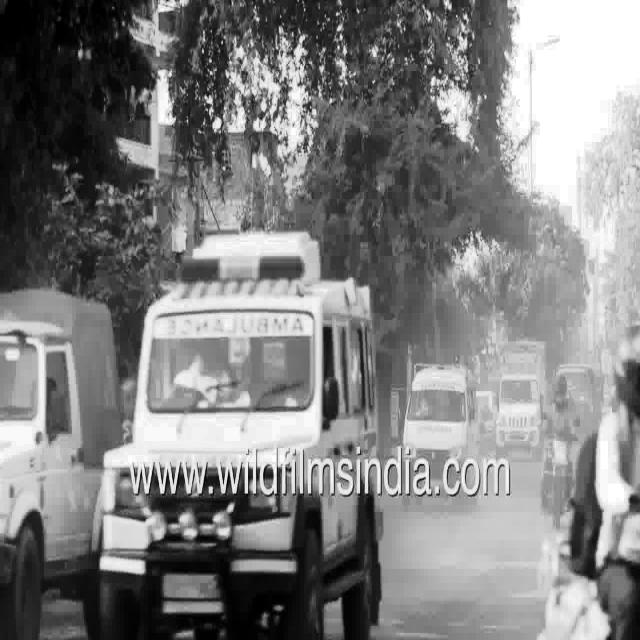Ambulance: (127, 228, 380, 450)
